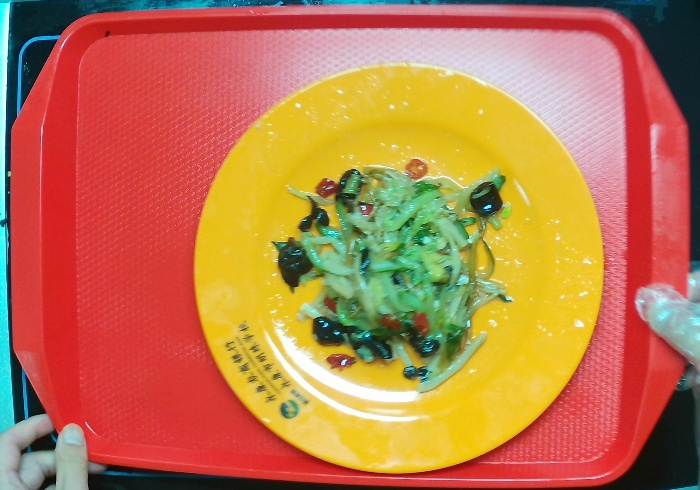YKMZ-Ju_Se_Mian_Pan: (192, 61, 606, 474)
